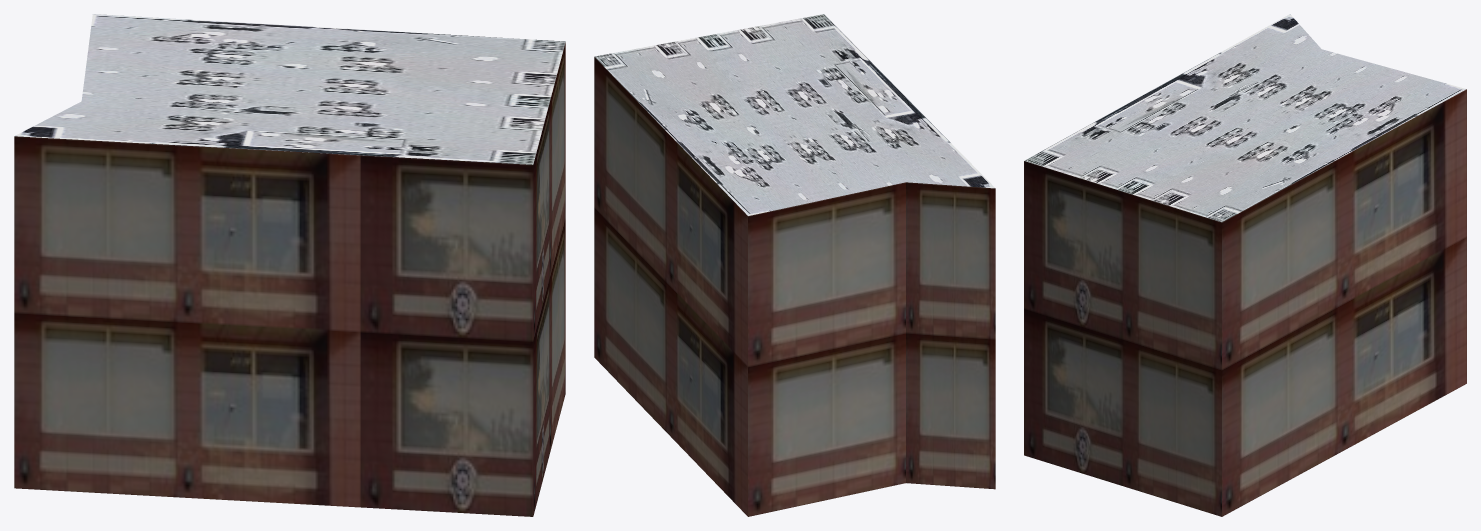
The model's file is ResTex__5045.fbx.
3 renders of one model, left to right at view 1: azimuth 30°, elevation 25°; view 2: azimuth 150°, elevation 25°; view 3: azimuth 270°, elevation 25°, orthographic. The views are drawn at different scales.
Parts seen in each view (by area): view 1: CityEngineMaterial_13_m, CityEngineMaterial_2_m; view 2: CityEngineMaterial_13_m, CityEngineMaterial_2_m; view 3: CityEngineMaterial_13_m, CityEngineMaterial_2_m.
Boxes of the visible parts, box(x1,y1,x2,y2) form: CityEngineMaterial_13_m: box(14, 42, 565, 516); CityEngineMaterial_2_m: box(15, 14, 565, 164); CityEngineMaterial_13_m: box(594, 57, 995, 516); CityEngineMaterial_2_m: box(594, 14, 994, 215); CityEngineMaterial_13_m: box(1024, 89, 1466, 516); CityEngineMaterial_2_m: box(1024, 14, 1466, 222).
Size of the model in its own units: 9.11 by 6 by 8.18.
2 materials, 2 textured.
